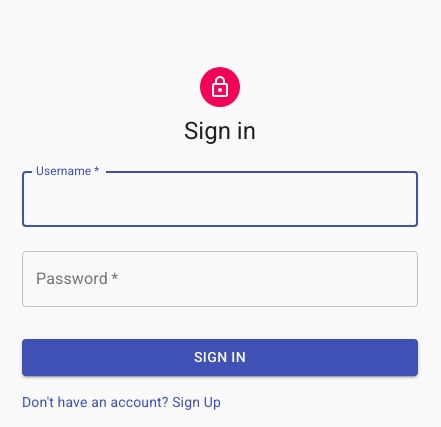
Unregistered user can not login before registering › Logging in before signing up should fail
Type "ATestUser" into the field with id "username".
click(220, 199); type("ATestUser")  # box [22,171,418,227]
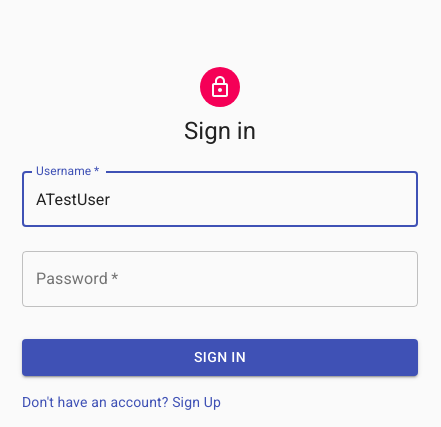
Type "ATestUserPassword" into the password field labelled "Password *".
click(220, 279); type("ATestUserPassword")  # box [22,251,418,307]
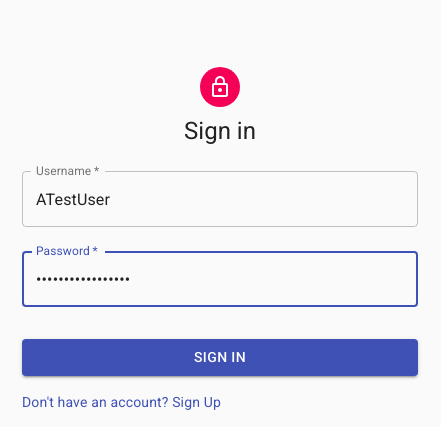
Click the button with test id "loginButton".
click(220, 358)  # box [22,339,418,376]
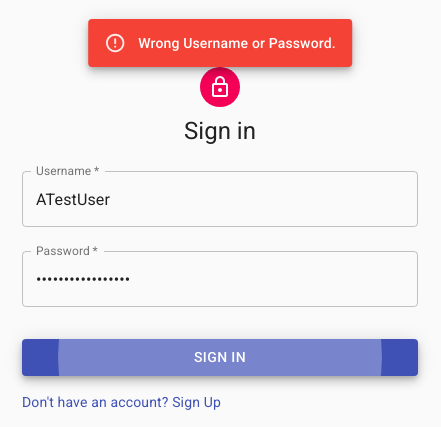
Result: the text "Wrong Username or Password" is shown at [138,35,336,51]
